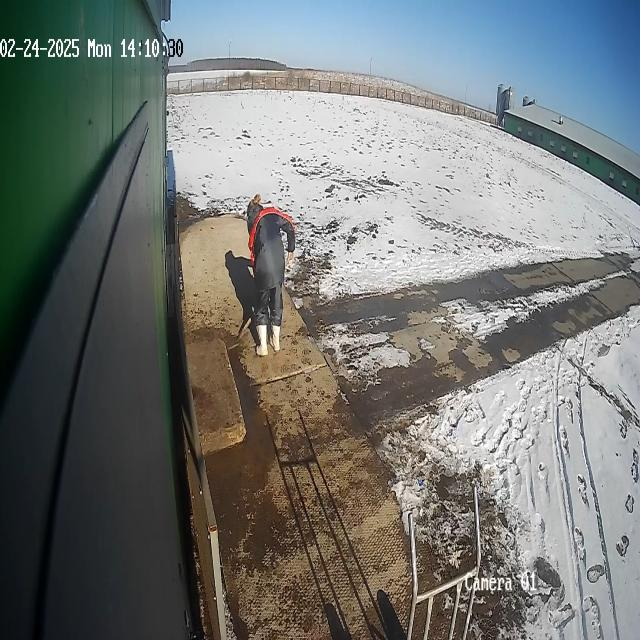Red uniform: (244, 192, 297, 358)
